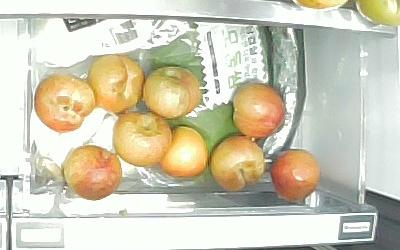prune: (32, 72, 95, 133), (111, 110, 173, 167), (63, 144, 122, 201), (231, 80, 287, 139), (88, 55, 144, 113), (210, 135, 264, 192), (143, 65, 201, 117), (270, 148, 321, 204), (161, 124, 208, 179)
